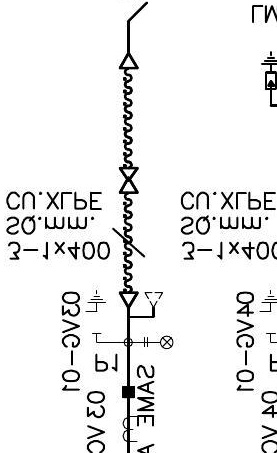22_gs: (84, 290, 107, 336)
22_ll: (143, 335, 174, 350)
terminator_single: (118, 52, 140, 71)
terminator_splicing_kits: (118, 167, 139, 195)
terminator_w_future: (118, 290, 165, 320)
